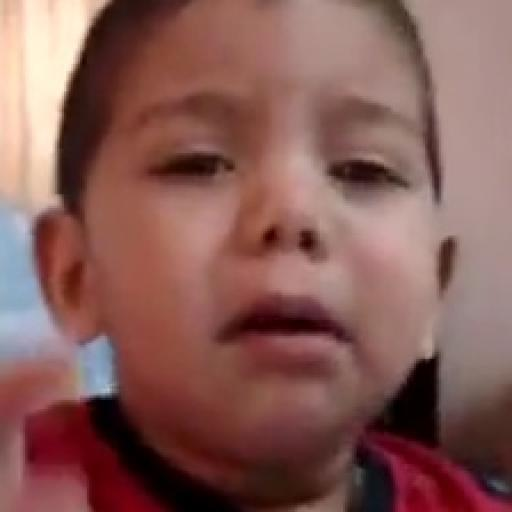Autism: (72, 15, 481, 511)
